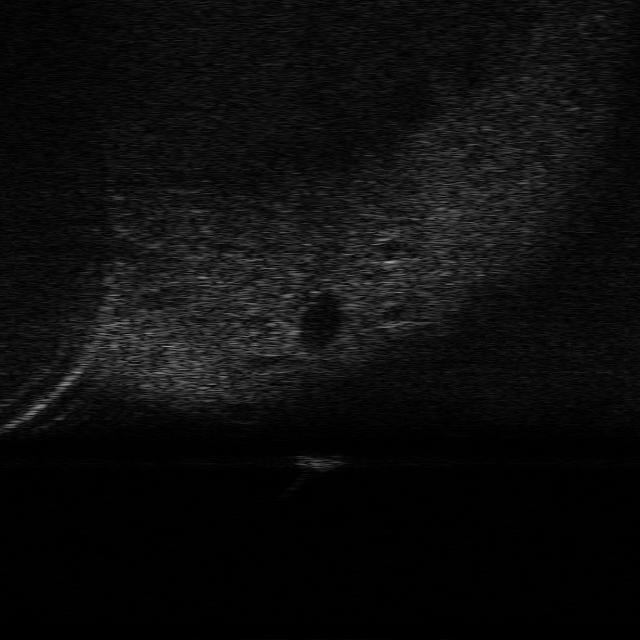cube: (293, 449, 345, 472)
